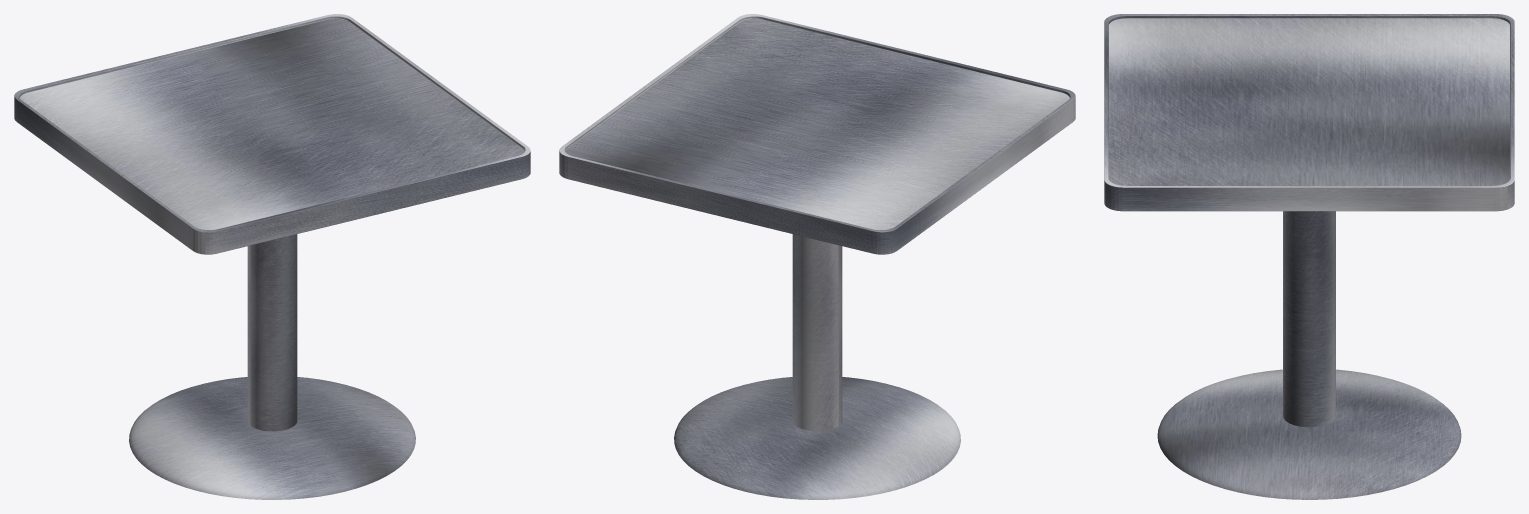
File: MS_PROP_Desk01.fbx
The picture shows the model from 3 angles, left to right: view 1: azimuth 30°, elevation 25°; view 2: azimuth 150°, elevation 25°; view 3: azimuth 270°, elevation 25°; orthographic projection. The views are drawn at different scales.
Visible parts, largest first — view 1: MS_PROP_Desk01; view 2: MS_PROP_Desk01; view 3: MS_PROP_Desk01.
Boxes of the visible parts, x1=… form: MS_PROP_Desk01: x1=14, y1=14, x2=530, y2=499; MS_PROP_Desk01: x1=559, y1=14, x2=1075, y2=499; MS_PROP_Desk01: x1=1104, y1=14, x2=1514, y2=499.
Bounding box in the file's own units: 0.4499 × 0.4063 × 0.4499.
Materials: 1 (1 with a texture image).
